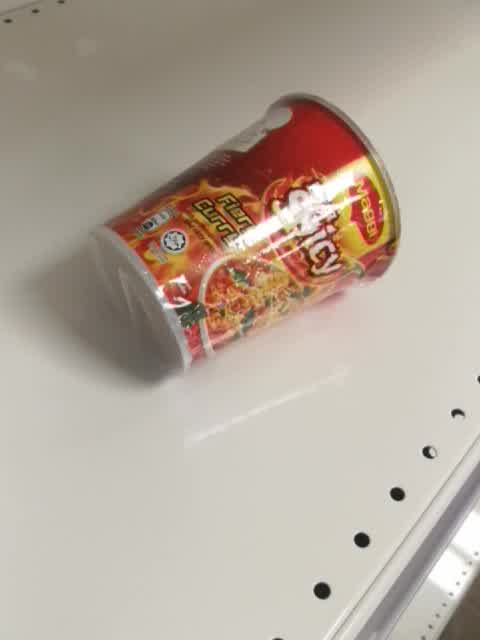maggi: (90, 91, 403, 381)
